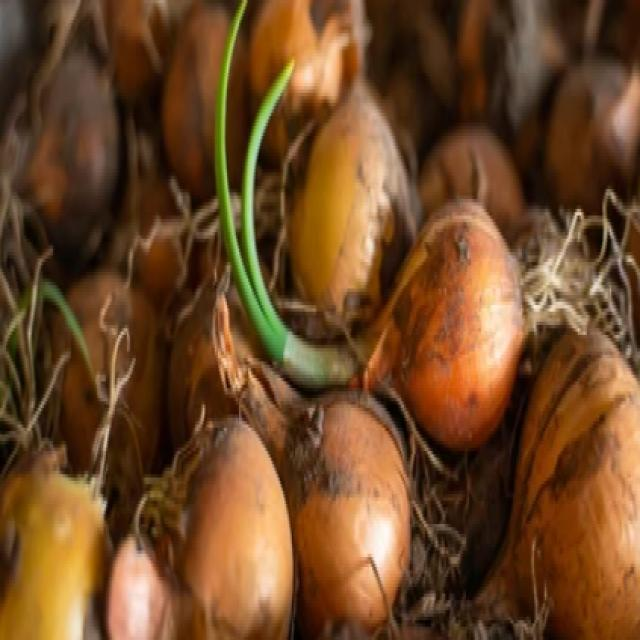rotten: (450, 252, 530, 382)
sprouting: (226, 208, 370, 392)
